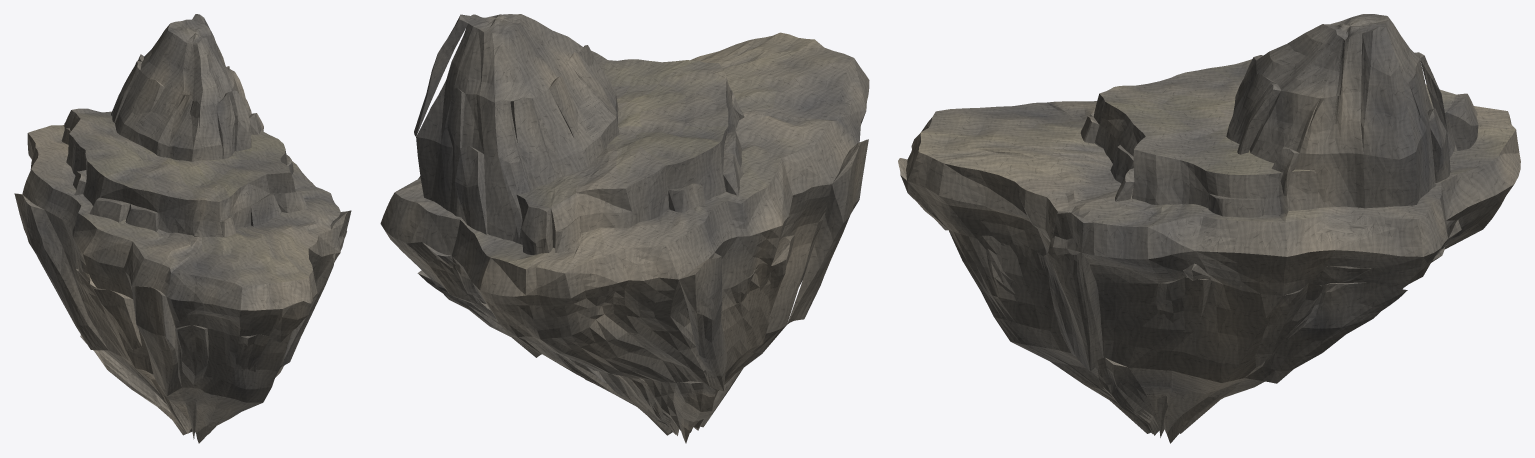
3 renders of one model, left to right at view 1: azimuth 30°, elevation 25°; view 2: azimuth 150°, elevation 25°; view 3: azimuth 270°, elevation 25°, orthographic. The views are drawn at different scales.
Parts seen in each view (by area): view 1: F05_stone; view 2: F05_stone; view 3: F05_stone.
Part boxes in pixels (x1,y1,x2,y2): F05_stone: (14, 14, 351, 443); F05_stone: (380, 14, 869, 443); F05_stone: (898, 14, 1520, 443).
Size of the model in its own units: 19.79 by 27.8 by 33.73.
Materials: 1 (1 with a texture image).
